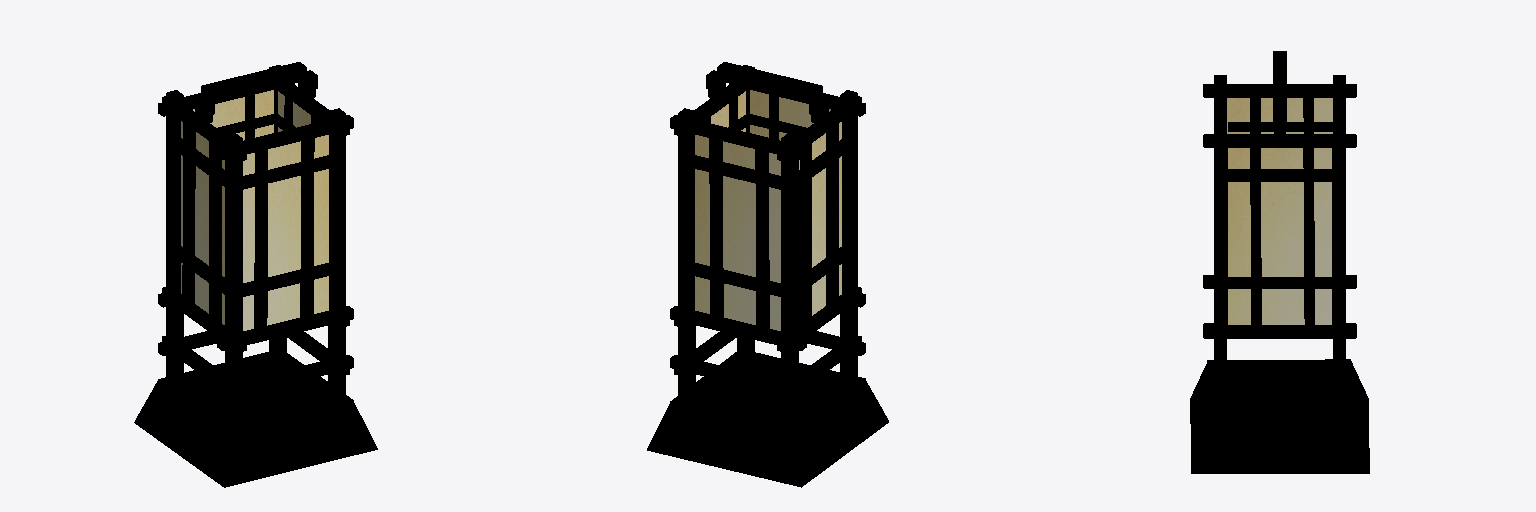
3 renders of one model, left to right at view 1: azimuth 30°, elevation 25°; view 2: azimuth 150°, elevation 25°; view 3: azimuth 270°, elevation 25°, orthographic.
Visible parts, largest first — view 1: pCone2, lantern_01:Mesh polySurface57, polySurface60, lantern_32:Mesh_pasted__pasted__pasted__pasted__polySurface14 pa, lantern_01:Mesh polySurface29, lantern_01:Mesh polySurface28, lantern_01:Mesh polySurface31, lantern_01:Mesh polySurface55, pasted__pCube1 group23, lantern_01:Mesh polySurface56, lantern_01:Mesh polySurface27, lantern_01:Mesh polySurface15 (+8 smaller); view 2: pCone2, lantern_01:Mesh polySurface56, lantern_10:Mesh_pasted__pasted__pasted__polySurface14, lantern_32:Mesh_pasted__pasted__pasted__pasted__polySurface14 pa, lantern_01:Mesh polySurface31, lantern_01:Mesh polySurface30, lantern_01:Mesh polySurface29, lantern_01:Mesh polySurface55, pasted__pCube1 group23, lantern_01:Mesh polySurface57, lantern_01:Mesh polySurface14, lantern_01:Mesh polySurface26 (+8 smaller); view 3: pCone2, lantern_01:Mesh polySurface54, lantern_15:Mesh_pasted__pasted__pasted__pasted__polySurface14, lantern_01:Mesh polySurface28, lantern_01:Mesh polySurface30, lantern_01:Mesh polySurface55, lantern_32:Mesh_pasted__pasted__pasted__pasted__polySurface14 pa, lantern_01:Mesh polySurface33, lantern_01:Mesh polySurface25, lantern_01:Mesh polySurface24, lantern_01:Mesh polySurface35, pasted__pCube1 group23 (+1 smaller).
Part boxes in pixels (left/top/right/bottom): pCone2: left=134, top=352, right=377, bottom=487; lantern_01:Mesh polySurface57: left=243, top=135, right=328, bottom=330; polySurface60: left=243, top=138, right=333, bottom=332; lantern_32:Mesh_pasted__pasted__pasted__pasted__polySurface14 pa: left=174, top=122, right=224, bottom=328; lantern_01:Mesh polySurface29: left=225, top=134, right=242, bottom=429; lantern_01:Mesh polySurface28: left=328, top=108, right=345, bottom=402; lantern_01:Mesh polySurface31: left=166, top=90, right=183, bottom=384; lantern_01:Mesh polySurface55: left=181, top=121, right=224, bottom=324; pasted__pCube1 group23: left=201, top=62, right=306, bottom=103; lantern_01:Mesh polySurface56: left=193, top=90, right=273, bottom=140; lantern_01:Mesh polySurface27: left=243, top=360, right=333, bottom=393; lantern_01:Mesh polySurface15: left=243, top=120, right=333, bottom=153; pCone2: left=647, top=352, right=888, bottom=487; lantern_01:Mesh polySurface56: left=695, top=135, right=780, bottom=330; lantern_10:Mesh_pasted__pasted__pasted__polySurface14: left=690, top=138, right=780, bottom=335; lantern_32:Mesh_pasted__pasted__pasted__pasted__polySurface14 pa: left=799, top=118, right=850, bottom=327; lantern_01:Mesh polySurface31: left=781, top=134, right=798, bottom=430; lantern_01:Mesh polySurface30: left=678, top=108, right=695, bottom=402; lantern_01:Mesh polySurface29: left=840, top=90, right=857, bottom=384; lantern_01:Mesh polySurface55: left=799, top=122, right=841, bottom=315; pasted__pCube1 group23: left=717, top=62, right=822, bottom=103; lantern_01:Mesh polySurface57: left=750, top=90, right=830, bottom=140; lantern_01:Mesh polySurface14: left=690, top=120, right=780, bottom=153; lantern_01:Mesh polySurface26: left=690, top=360, right=780, bottom=393; pCone2: left=1190, top=359, right=1369, bottom=473; lantern_01:Mesh polySurface54: left=1228, top=148, right=1331, bottom=324; lantern_15:Mesh_pasted__pasted__pasted__pasted__polySurface14: left=1228, top=148, right=1332, bottom=328; lantern_01:Mesh polySurface28: left=1214, top=125, right=1226, bottom=417; lantern_01:Mesh polySurface30: left=1333, top=125, right=1345, bottom=417; lantern_01:Mesh polySurface55: left=1227, top=98, right=1332, bottom=133; lantern_32:Mesh_pasted__pasted__pasted__pasted__polySurface14 pa: left=1228, top=91, right=1332, bottom=133; lantern_01:Mesh polySurface33: left=1227, top=374, right=1332, bottom=387; lantern_01:Mesh polySurface25: left=1227, top=134, right=1332, bottom=147; lantern_01:Mesh polySurface24: left=1227, top=84, right=1332, bottom=97; lantern_01:Mesh polySurface35: left=1227, top=329, right=1332, bottom=338; pasted__pCube1 group23: left=1273, top=51, right=1286, bottom=109.
Size of the model in its own units: 0.5443 by 1.2 by 0.5443.
2 materials, 1 textured.